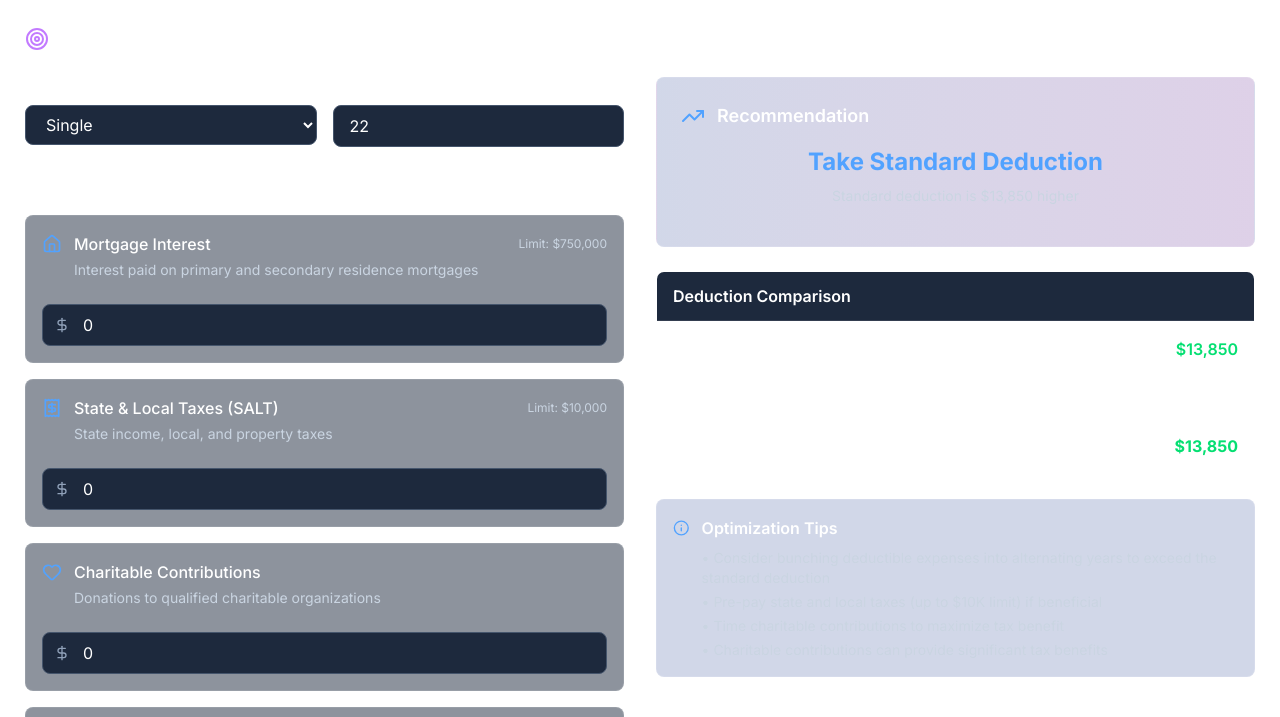
DeductionOptimizer › shows SALT limitation warning
Type "15000" into the number field showing "0" below "State income, local, and property taxes" at (324, 489), box [42,468,607,510]
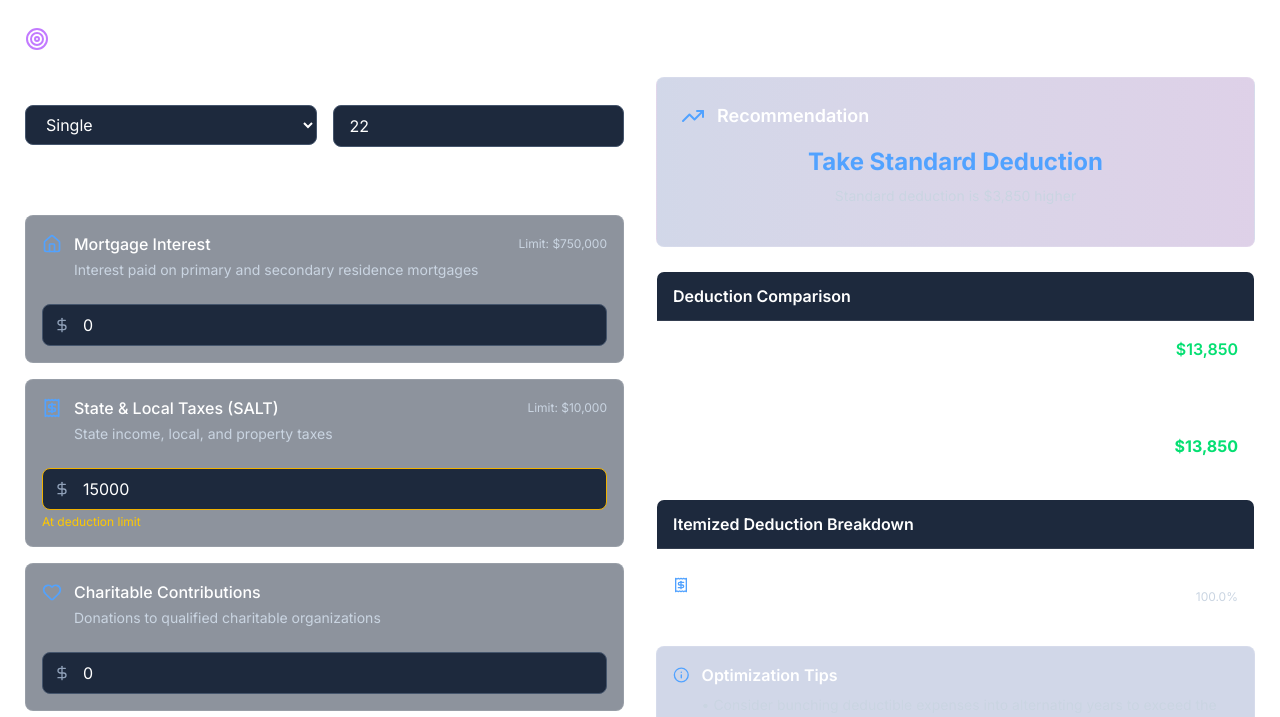
Expected: the text "At deduction limit" is shown, [42,514,141,529]
